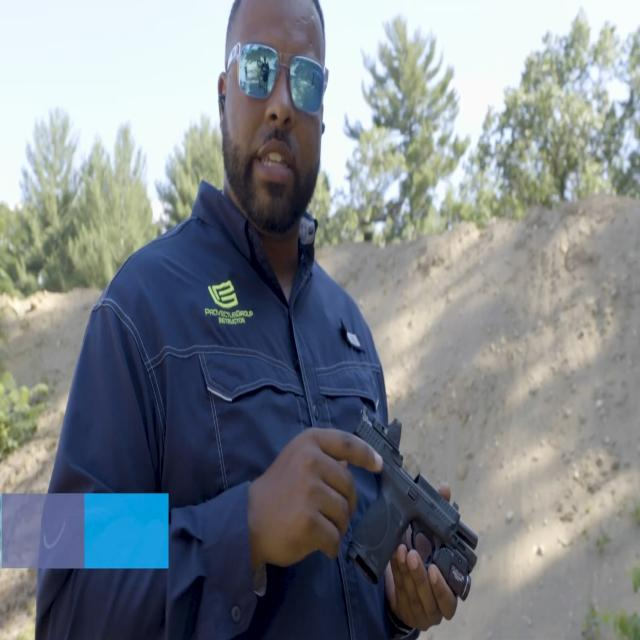Gun_Holder: (319, 412, 479, 616)
Person: (59, 0, 443, 640)
